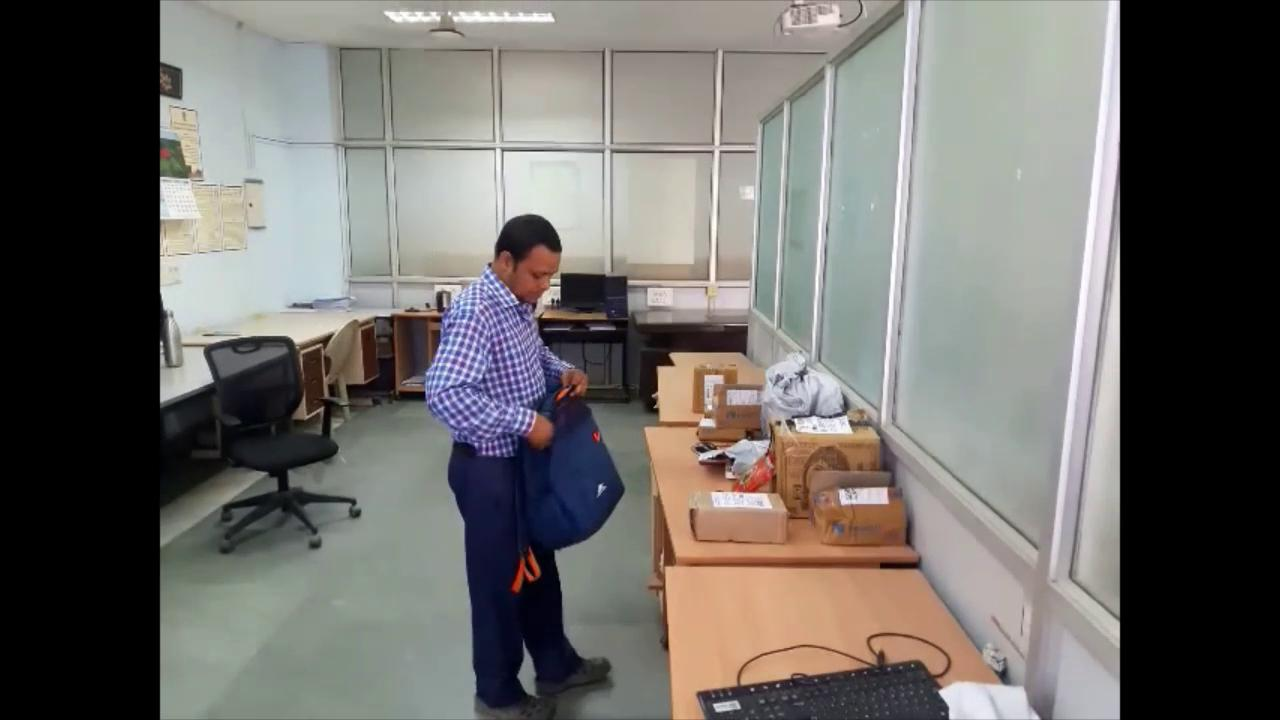shoplifting: (413, 192, 623, 715)
